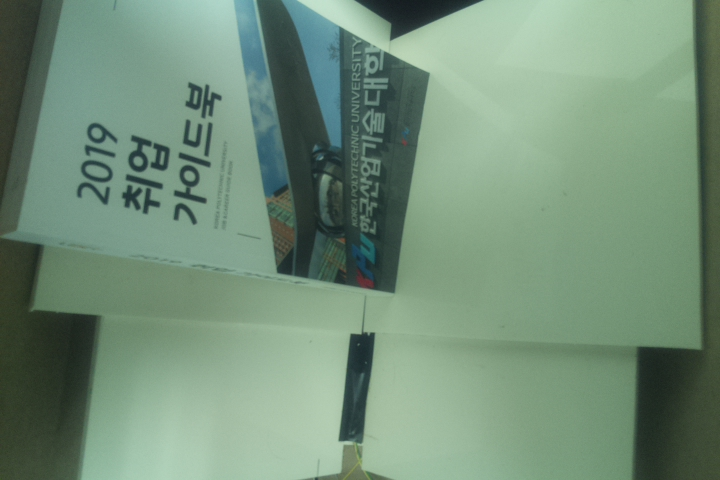book: (1, 1, 431, 300)
